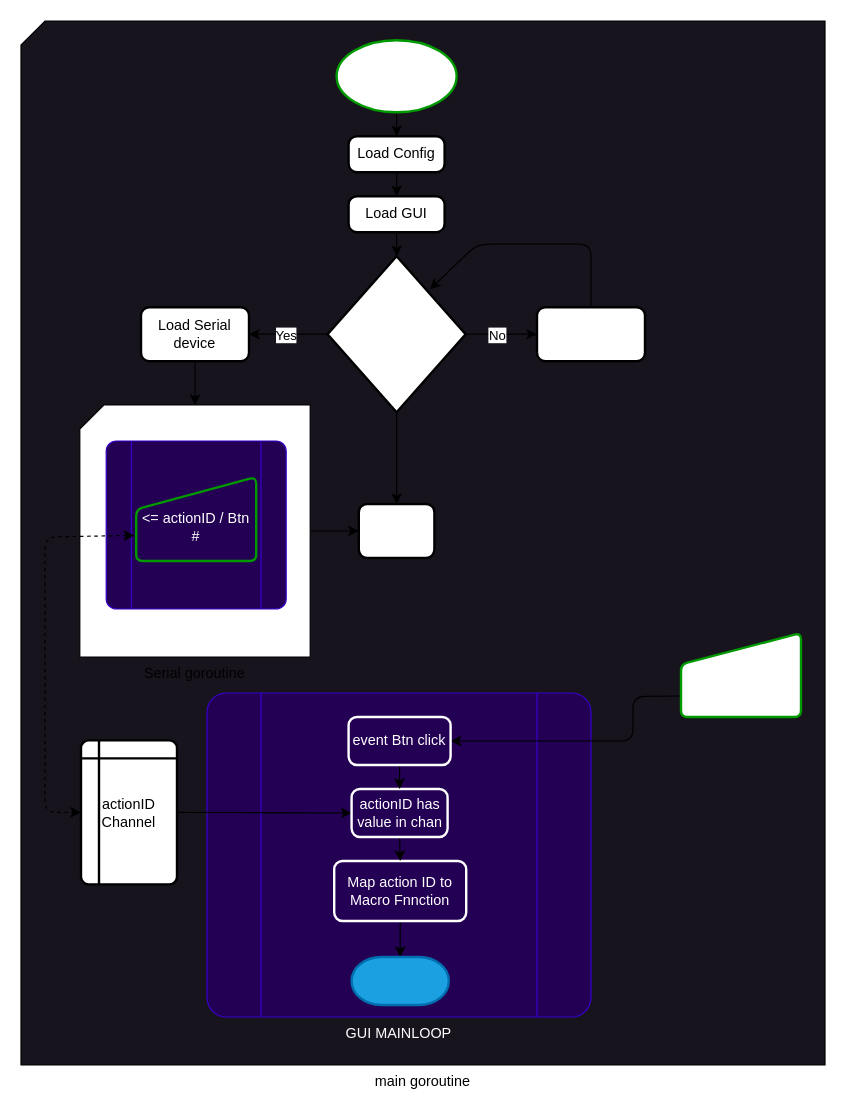
Image size: 846x1111. Some labels were removed from this diagram. The shapes that lost their labels are listed below. From the top down, each one's centre as x and y in pixels, then its label:
point (396, 75): Open App
point (396, 333): Is Serial Device plugged in?
point (590, 333): Retry 3 times, 10s delay
point (396, 530): Start GUI
point (740, 674): User clicks button
point (399, 980): Run Macro
